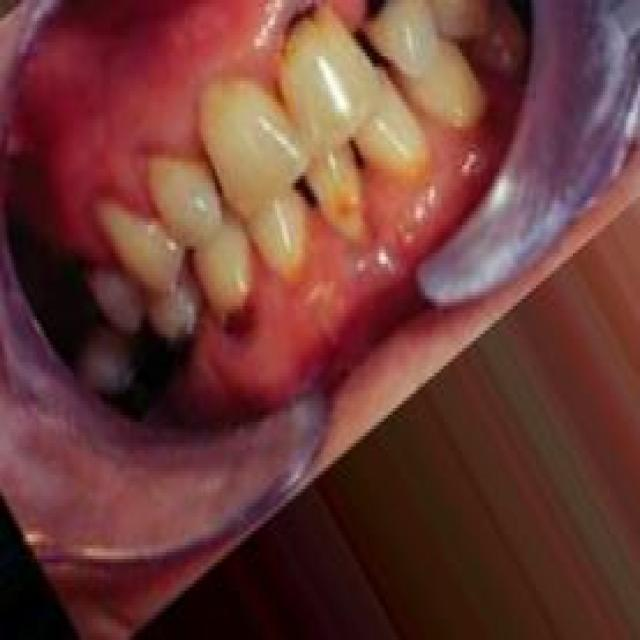caries: (271, 0, 329, 74)
